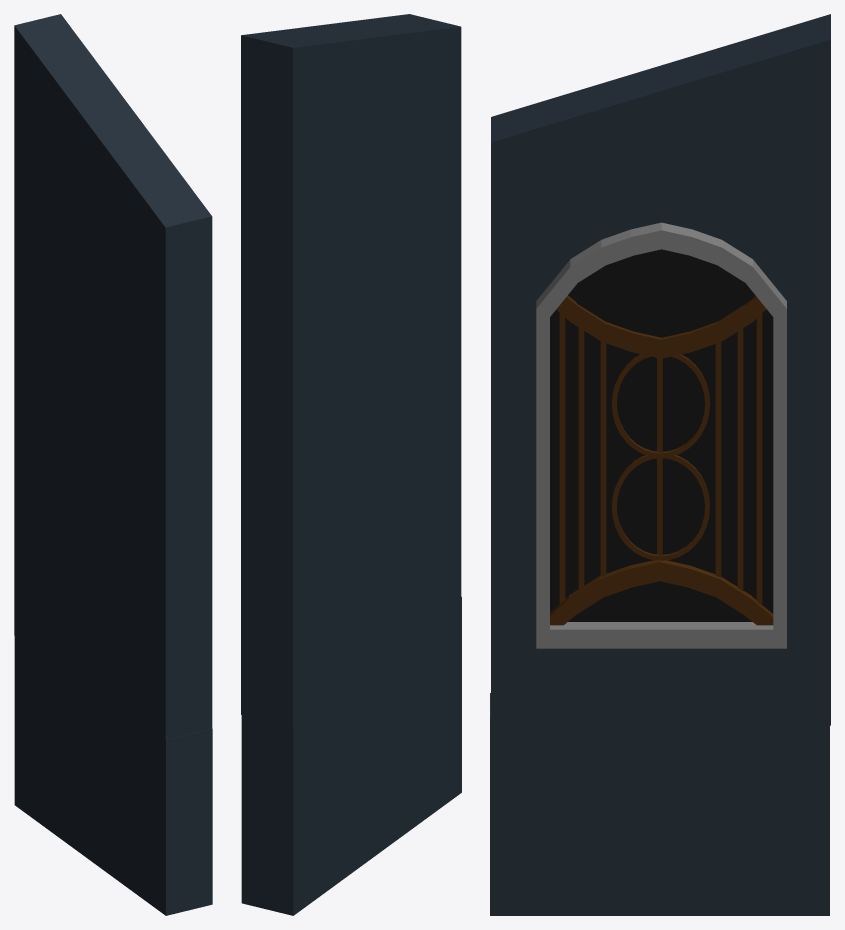
Rendered from main_back_to_side_block4.glb.
The picture shows the model from 3 angles, left to right: view 1: azimuth 30°, elevation 25°; view 2: azimuth 150°, elevation 25°; view 3: azimuth 270°, elevation 25°; orthographic projection. The views are drawn at different scales.
Parts seen in each view (by area): view 1: Cube, Cube.010; view 2: Cube, Cube.010; view 3: Cube, Cube.010, Cube.001, Khung001, decor001.001, decor001, Cube.005, Cube.008, Cube.004, Cube.007, Cylinder.002, Cylinder.001 (+3 smaller).
Boxes of the visible parts, box(x1,y1,x2,y2) form: Cube: box(14, 14, 212, 739); Cube.010: box(14, 636, 212, 915); Cube: box(241, 14, 461, 727); Cube.010: box(241, 597, 461, 915); Cube: box(491, 14, 830, 725); Cube.010: box(490, 693, 829, 915); Cube.001: box(550, 249, 773, 621); Khung001: box(536, 222, 786, 648); decor001.001: box(550, 560, 773, 625); decor001: box(556, 295, 766, 358); Cube.005: box(756, 313, 762, 605); Cube.008: box(559, 313, 565, 604); Cube.004: box(737, 328, 743, 591); Cube.007: box(578, 327, 584, 590); Cylinder.002: box(611, 455, 709, 560); Cylinder.001: box(611, 354, 709, 457).
Size of the model in its own units: 1.01 by 12.36 by 4.36.
